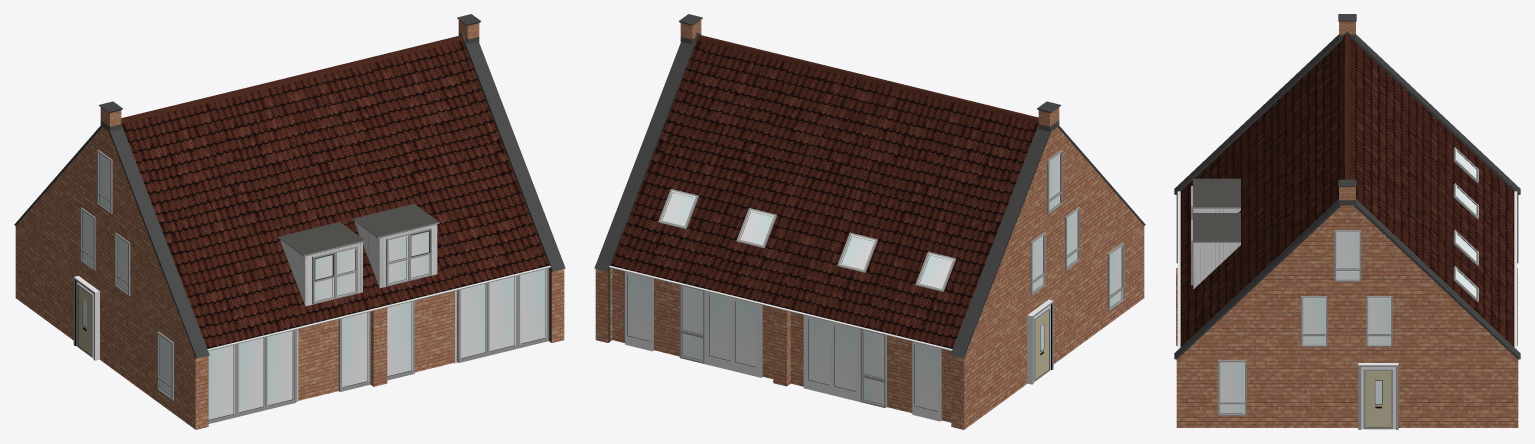
Rendered from Swinge Type B.fbx.
3 views of the same model, side by side, from view 1: azimuth 30°, elevation 25°; view 2: azimuth 150°, elevation 25°; view 3: azimuth 270°, elevation 25° (orthographic). The views are drawn at different scales.
Visible parts, largest first — view 1: Swinge_Type_B; view 2: Swinge_Type_B; view 3: Swinge_Type_B.
Part boxes in pixels (x1,y1,x2,y2): Swinge_Type_B: (14, 14, 565, 429); Swinge_Type_B: (594, 14, 1145, 429); Swinge_Type_B: (1174, 14, 1520, 429).
Size of the model in its own units: 14.2 by 9.18 by 11.88.
Materials: 1 (1 with a texture image).
